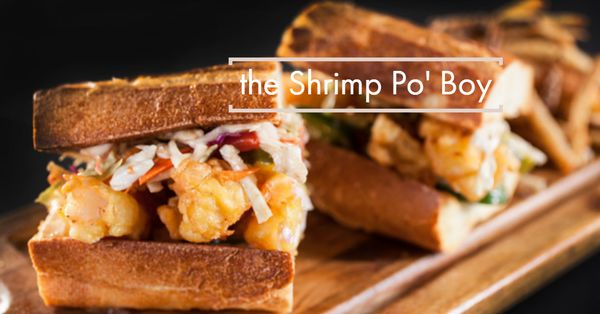soup: (26, 69, 312, 309)
